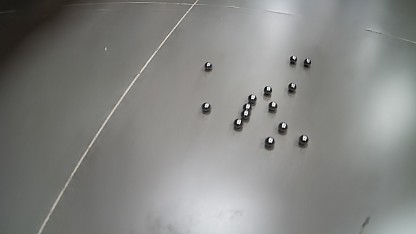ironball: (264, 136, 275, 148), (299, 134, 309, 146), (240, 109, 250, 120), (201, 102, 211, 113), (234, 118, 243, 130), (278, 121, 287, 133), (268, 101, 277, 112), (247, 94, 256, 104), (288, 82, 297, 92), (263, 86, 272, 95), (289, 55, 297, 63), (303, 58, 311, 66), (204, 62, 212, 70), (243, 103, 251, 111)
